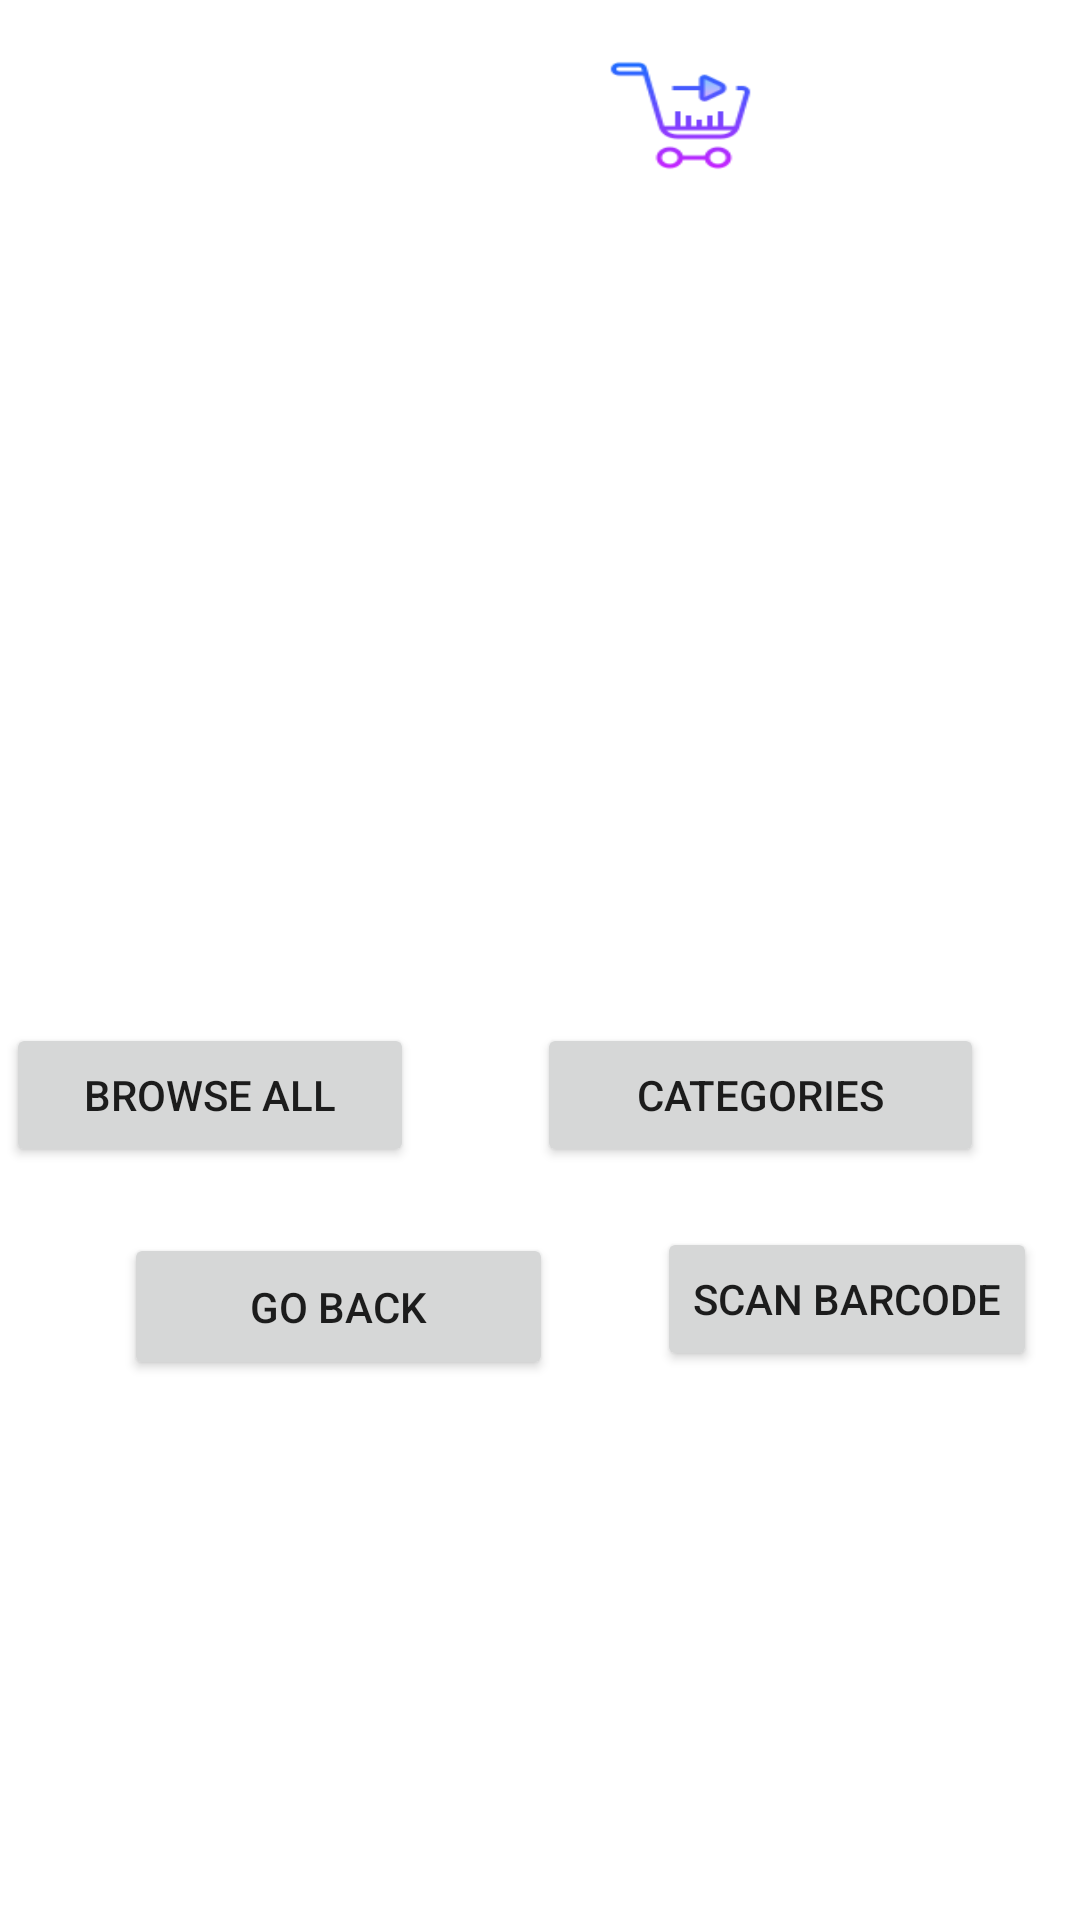

Named icons in this screenshot (1080w x 1920h) and their bounding boxes, (x1,y1,x2,y2):
basket checkout: (610,62,751,169)
